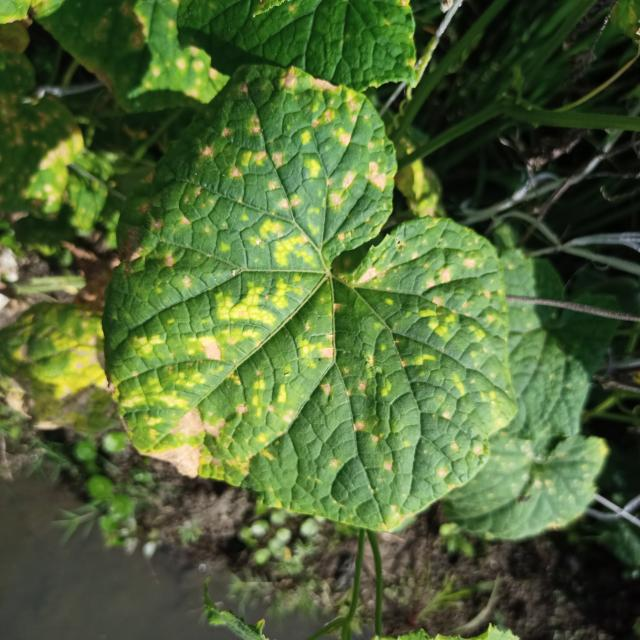disease_cucumber: (110, 60, 515, 515)
